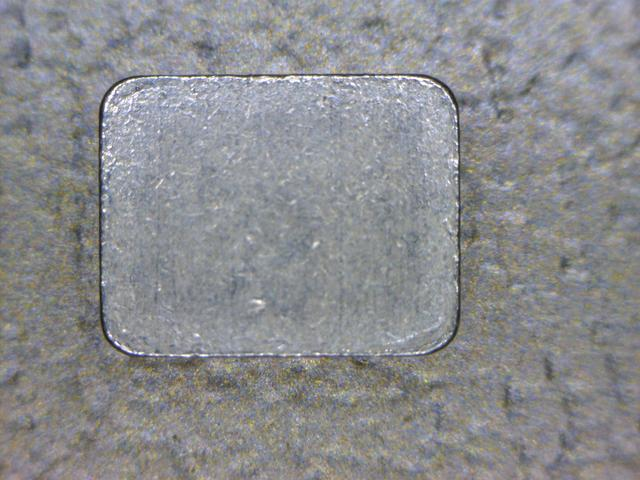ok: (95, 68, 471, 364)
